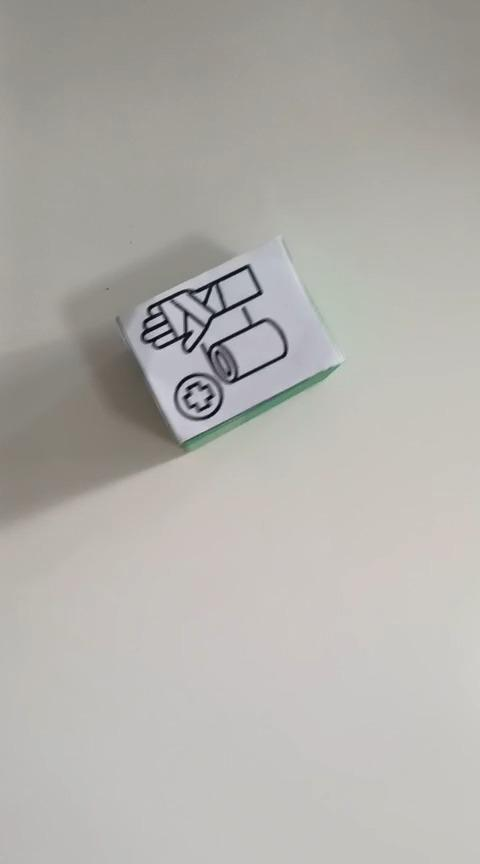Bandages: (114, 233, 345, 452)
